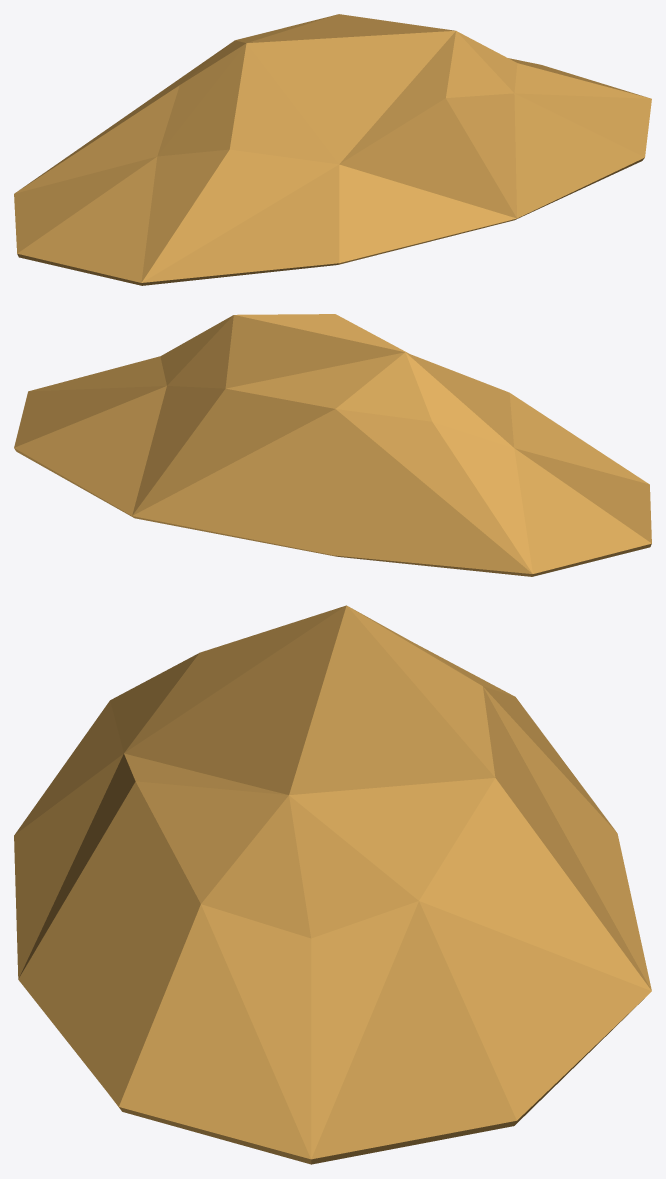
3 views of the same model, one above another, from view 1: azimuth 30°, elevation 25°; view 2: azimuth 150°, elevation 25°; view 3: azimuth 270°, elevation 25° (orthographic). The views are drawn at different scales.
Visible parts, largest first — view 1: Hill_Ochre_A_Geometry; view 2: Hill_Ochre_A_Geometry; view 3: Hill_Ochre_A_Geometry.
Boxes of the visible parts, x1,y1,x2,y2 form: Hill_Ochre_A_Geometry: (14, 14, 651, 285); Hill_Ochre_A_Geometry: (14, 314, 651, 576); Hill_Ochre_A_Geometry: (14, 605, 651, 1164).
Bounding box in the file's own units: 2.69 × 0.6 × 1.42.
